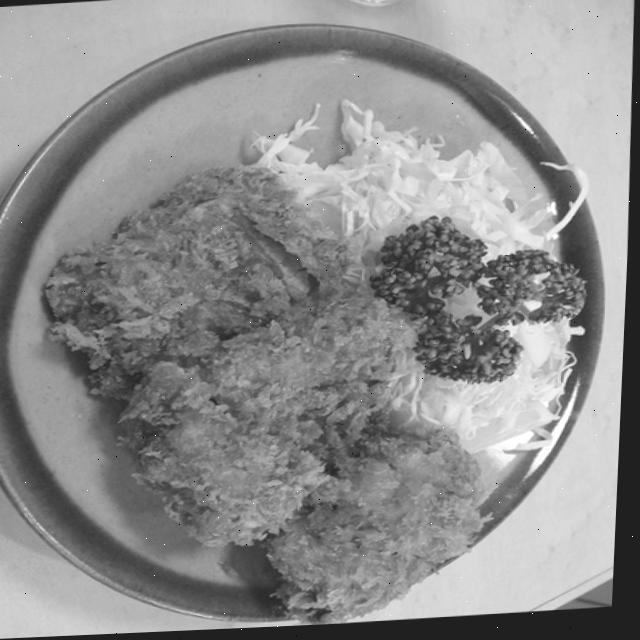牛肉菜式: (0, 20, 636, 640)
